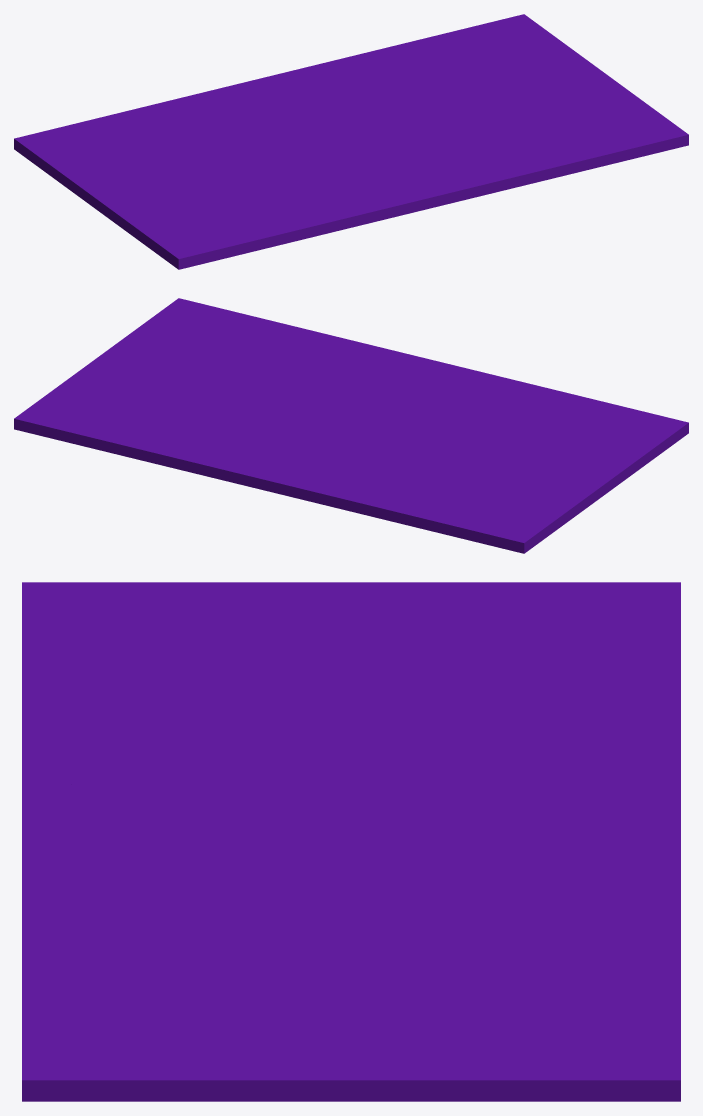
The model's file is Exhibition_19.008_chunks.fbx.
3 views of the same model, one above another, from view 1: azimuth 30°, elevation 25°; view 2: azimuth 150°, elevation 25°; view 3: azimuth 270°, elevation 25° (orthographic). The views are drawn at different scales.
Visible parts, largest first — view 1: Exhibition_19.008_1, Exhibition_19.008_2, Exhibition_19.008_3, Exhibition_19.008_0; view 2: Exhibition_19.008_1, Exhibition_19.008_3, Exhibition_19.008_2, Exhibition_19.008_0; view 3: Exhibition_19.008_2, Exhibition_19.008_1, Exhibition_19.008_3, Exhibition_19.008_0.
Boxes of the visible parts, left/top/right/bottom form: Exhibition_19.008_1: left=14, top=110, right=374, bottom=269; Exhibition_19.008_2: left=355, top=52, right=688, bottom=221; Exhibition_19.008_3: left=129, top=14, right=575, bottom=135; Exhibition_19.008_0: left=300, top=132, right=376, bottom=222; Exhibition_19.008_1: left=367, top=386, right=688, bottom=553; Exhibition_19.008_3: left=14, top=381, right=409, bottom=524; Exhibition_19.008_2: left=66, top=298, right=489, bottom=419; Exhibition_19.008_0: left=347, top=374, right=540, bottom=441; Exhibition_19.008_2: left=22, top=776, right=476, bottom=1101; Exhibition_19.008_1: left=22, top=582, right=680, bottom=798; Exhibition_19.008_3: left=353, top=694, right=680, bottom=1101; Exhibition_19.008_0: left=22, top=727, right=421, bottom=835.
Bounding box in the file's own units: 642 × 12.85 × 359.
